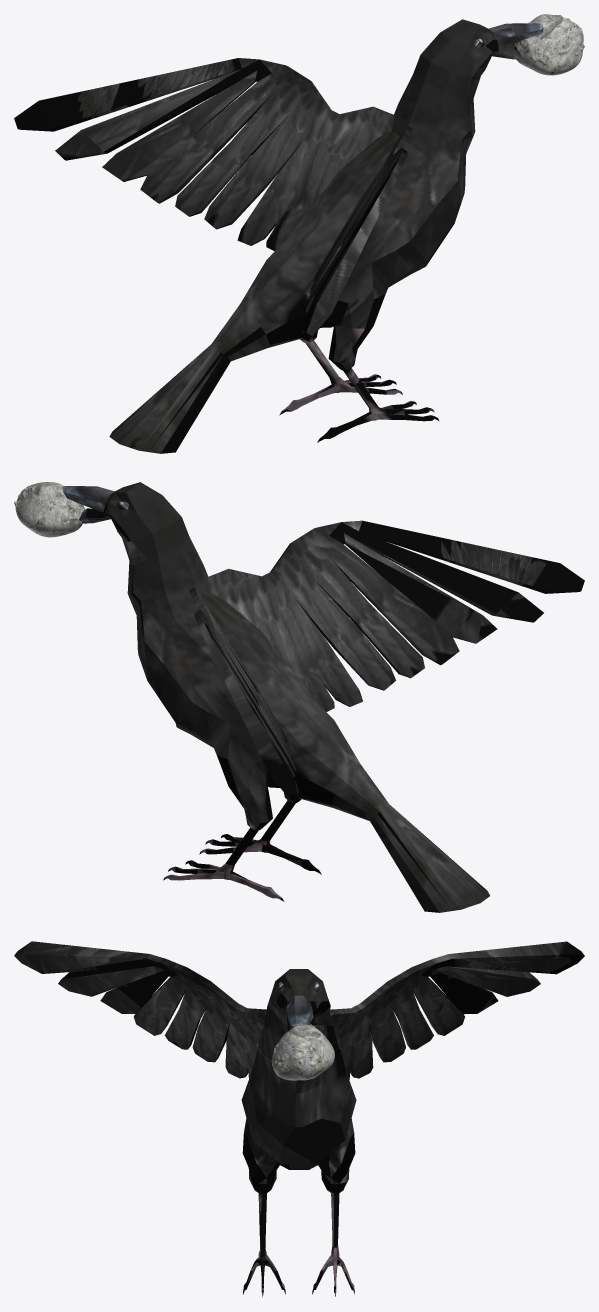
Rendered from crowTextureAnimPebble_000010.obj.
The picture shows the model from 3 angles, top to bottom: view 1: azimuth 30°, elevation 25°; view 2: azimuth 150°, elevation 25°; view 3: azimuth 270°, elevation 25°; orthographic projection. The views are drawn at different scales.
Parts seen in each view (by area): view 1: Cylinder.001, Cylinder.002, Cylinder.003, Icosphere_Icosphere.002; view 2: Cylinder.001, Cylinder.003, Cylinder.002, Icosphere_Icosphere.002; view 3: Cylinder.001, Cylinder.002, Cylinder.003, Icosphere_Icosphere.002.
Part boxes in pixels (x1,y1,x2,y2): Cylinder.001: [109, 19, 543, 453]; Cylinder.002: [14, 58, 394, 251]; Cylinder.003: [300, 125, 412, 340]; Icosphere_Icosphere.002: [515, 14, 584, 75]; Cylinder.001: [62, 482, 489, 912]; Cylinder.003: [207, 520, 584, 711]; Cylinder.002: [189, 587, 299, 801]; Icosphere_Icosphere.002: [14, 482, 85, 537]; Cylinder.001: [241, 969, 356, 1297]; Cylinder.002: [315, 941, 584, 1079]; Cylinder.003: [14, 941, 266, 1078]; Icosphere_Icosphere.002: [271, 1024, 334, 1080].
Size of the model in its own units: 5.55 by 4.1 by 6.07.
